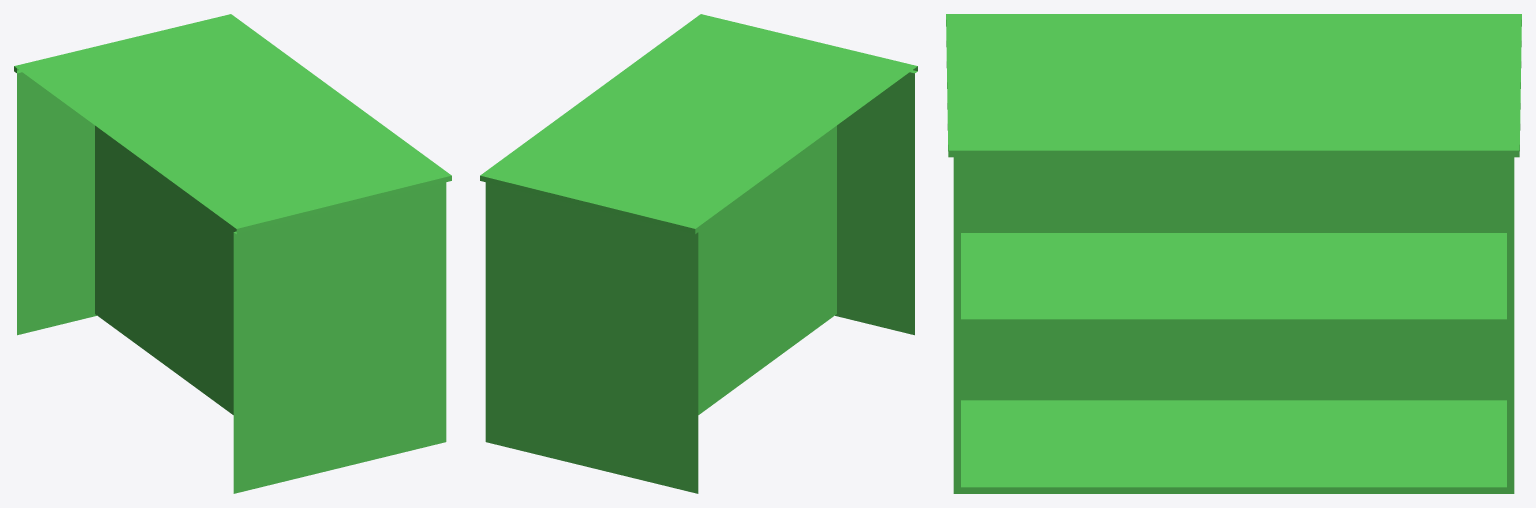
File: SM_ClosetSmall.fbx
The picture shows the model from 3 angles, left to right: view 1: azimuth 30°, elevation 25°; view 2: azimuth 150°, elevation 25°; view 3: azimuth 270°, elevation 25°; orthographic projection. The views are drawn at different scales.
Visible parts, largest first — view 1: ClosetSmall; view 2: ClosetSmall; view 3: ClosetSmall.
Boxes of the visible parts, x1=… form: ClosetSmall: x1=14, y1=14, x2=451, y2=493; ClosetSmall: x1=480, y1=14, x2=917, y2=493; ClosetSmall: x1=946, y1=14, x2=1521, y2=493.
Bounding box in the file's own units: 86.41 × 102 × 154.
